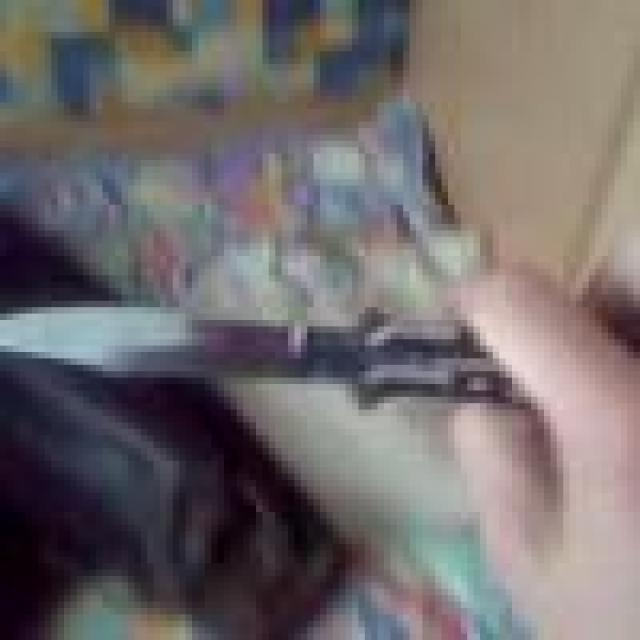knife: (0, 308, 484, 396)
